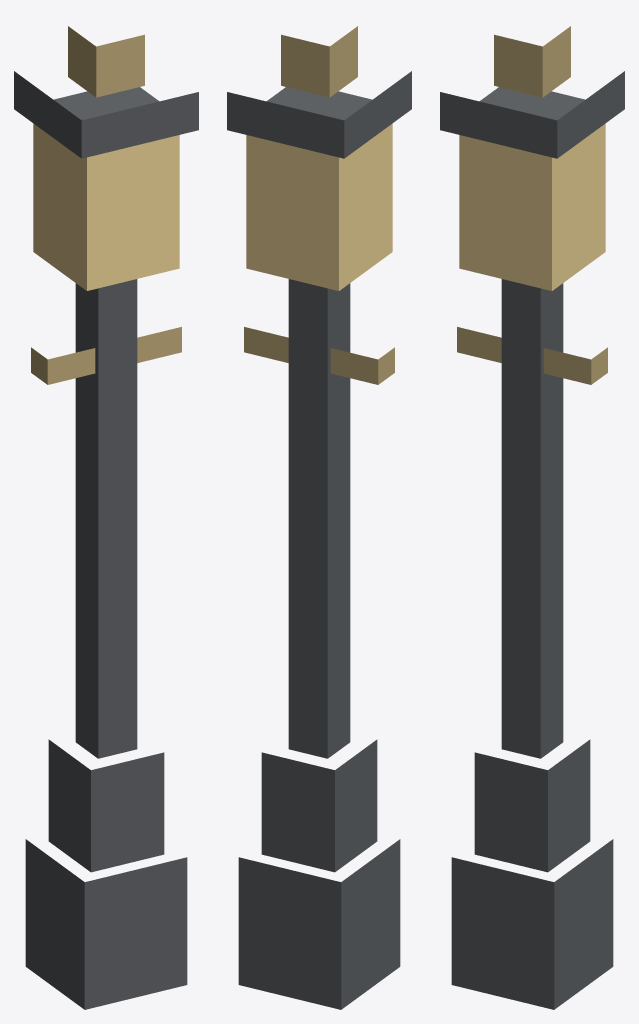
Rendered from gas_lamp.glb.
3 views of the same model, side by side, from view 1: azimuth 30°, elevation 25°; view 2: azimuth 150°, elevation 25°; view 3: azimuth 330°, elevation 25° (orthographic).
Parts seen in each view (by area): view 1: Metal_CastIron, Emissive_GasLantern, Metal_BrassPipe; view 2: Metal_CastIron, Emissive_GasLantern, Metal_BrassPipe; view 3: Metal_CastIron, Emissive_GasLantern, Metal_BrassPipe.
Part boxes in pixels (x1=…): Metal_CastIron: x1=14, y1=71, x2=198, y2=1009; Emissive_GasLantern: x1=33, y1=123, x2=179, y2=290; Metal_BrassPipe: x1=31, y1=26, x2=181, y2=384; Metal_CastIron: x1=227, y1=71, x2=411, y2=1009; Emissive_GasLantern: x1=246, y1=123, x2=392, y2=290; Metal_BrassPipe: x1=244, y1=26, x2=394, y2=384; Metal_CastIron: x1=440, y1=71, x2=624, y2=1009; Emissive_GasLantern: x1=459, y1=123, x2=605, y2=290; Metal_BrassPipe: x1=457, y1=26, x2=607, y2=384.
Bounding box in the file's own units: 0.11 × 0.74 × 0.096.
